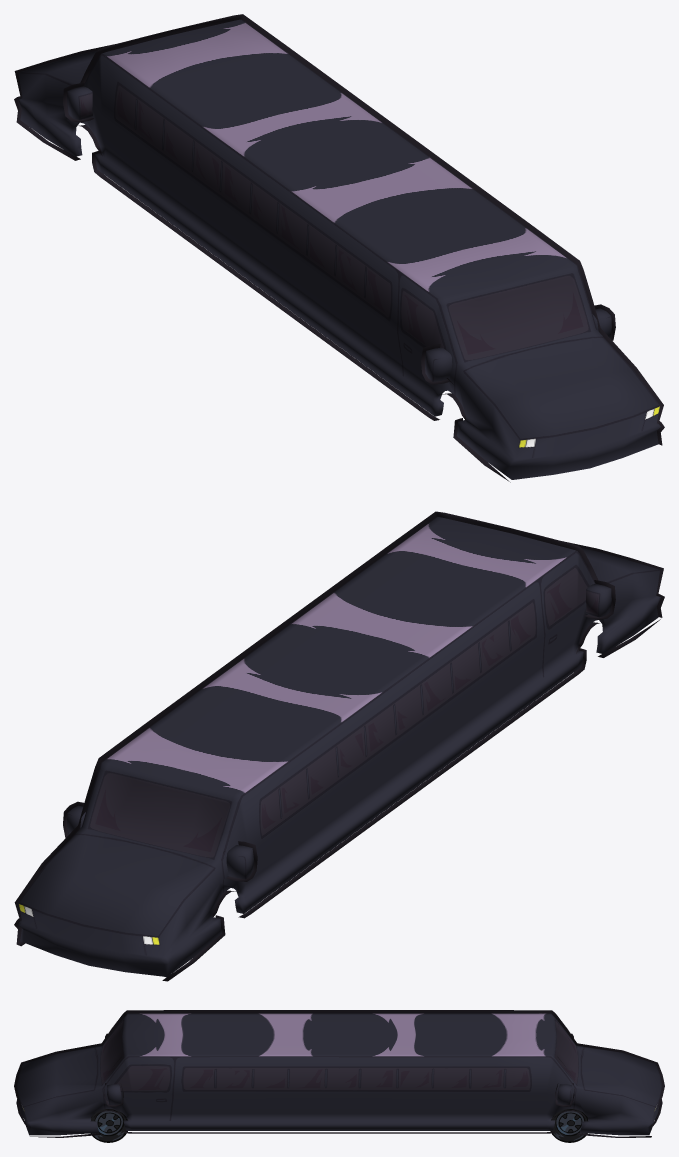
Rendered from betterbetterlimo.fbx.
3 renders of one model, top to bottom at view 1: azimuth 30°, elevation 25°; view 2: azimuth 150°, elevation 25°; view 3: azimuth 270°, elevation 25°, orthographic. The views are drawn at different scales.
Visible parts, largest first — view 1: Limo; view 2: Limo; view 3: Limo, Wheels, Wheels.001.
Boxes of the visible parts, x1,y1,x2,y2 form: Limo: (14, 14, 664, 482); Limo: (14, 511, 664, 981); Limo: (14, 1010, 664, 1137); Wheels: (550, 1109, 587, 1142); Wheels.001: (90, 1109, 127, 1142).
Size of the model in its own units: 177 by 130 by 847.
Materials: 1 (1 with a texture image).
